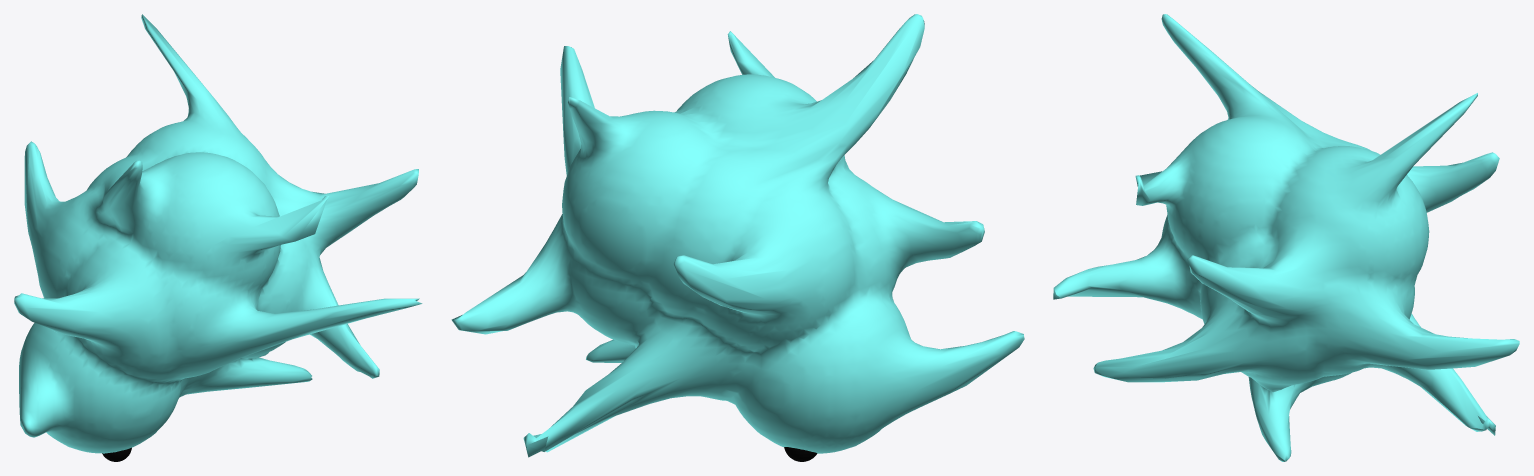
File: creature.glb
3 renders of one model, left to right at view 1: azimuth 30°, elevation 25°; view 2: azimuth 150°, elevation 25°; view 3: azimuth 270°, elevation 25°, orthographic. The views are drawn at different scales.
Visible parts, largest first — view 1: Sphere.009; view 2: Sphere.009; view 3: Sphere.009.
Boxes of the visible parts, bbox=[...] form: Sphere.009: bbox=[14, 14, 422, 453]; Sphere.009: bbox=[451, 14, 1024, 457]; Sphere.009: bbox=[1053, 14, 1519, 461].
Bounding box in the file's own units: 5.55 × 4.61 × 5.39.
